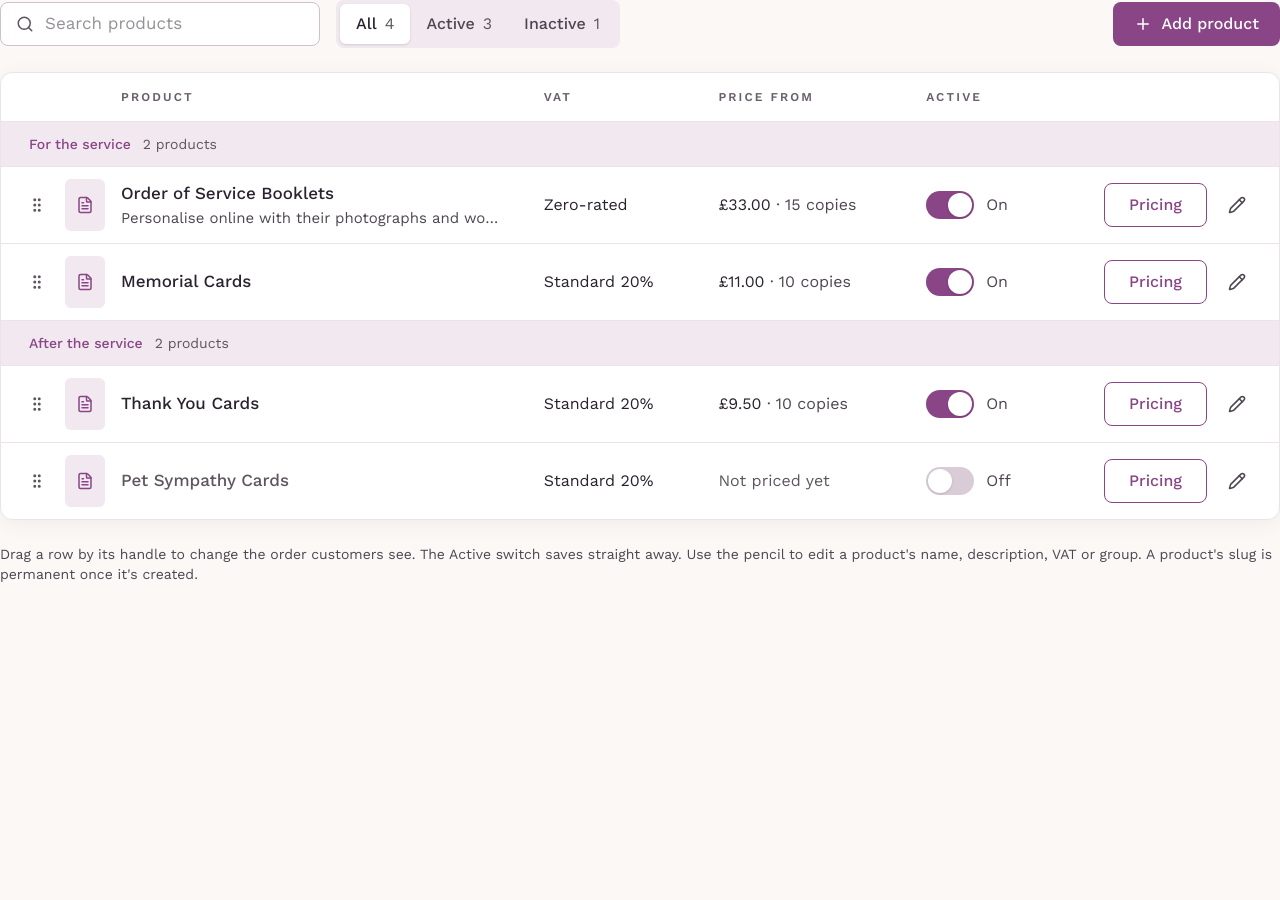
it: AdminProductsManager › edits a product with its slug locked, saving only once something changed
Click the button named "Edit Order of Service Booklets".
click(1237, 205)  # box [1215,183,1259,227]
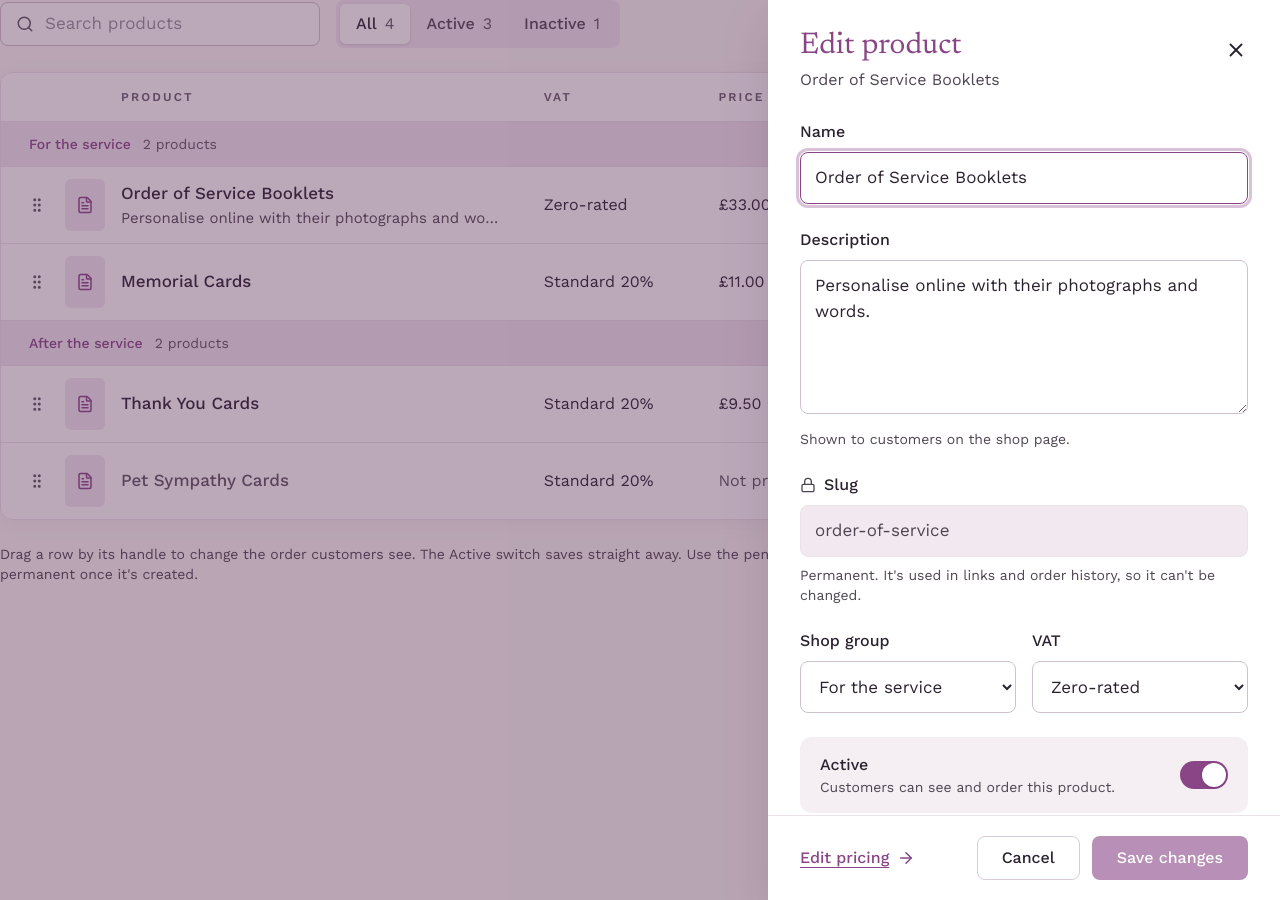
Now the text "Customers can see and order this product." is shown, box [820,776,1115,796]
Now the button "Save changes" is disabled, box [1092,836,1248,880]
Select "Standard 20%" in the dropdown labelled "VAT" at (1140, 686), box [1032,660,1248,712]
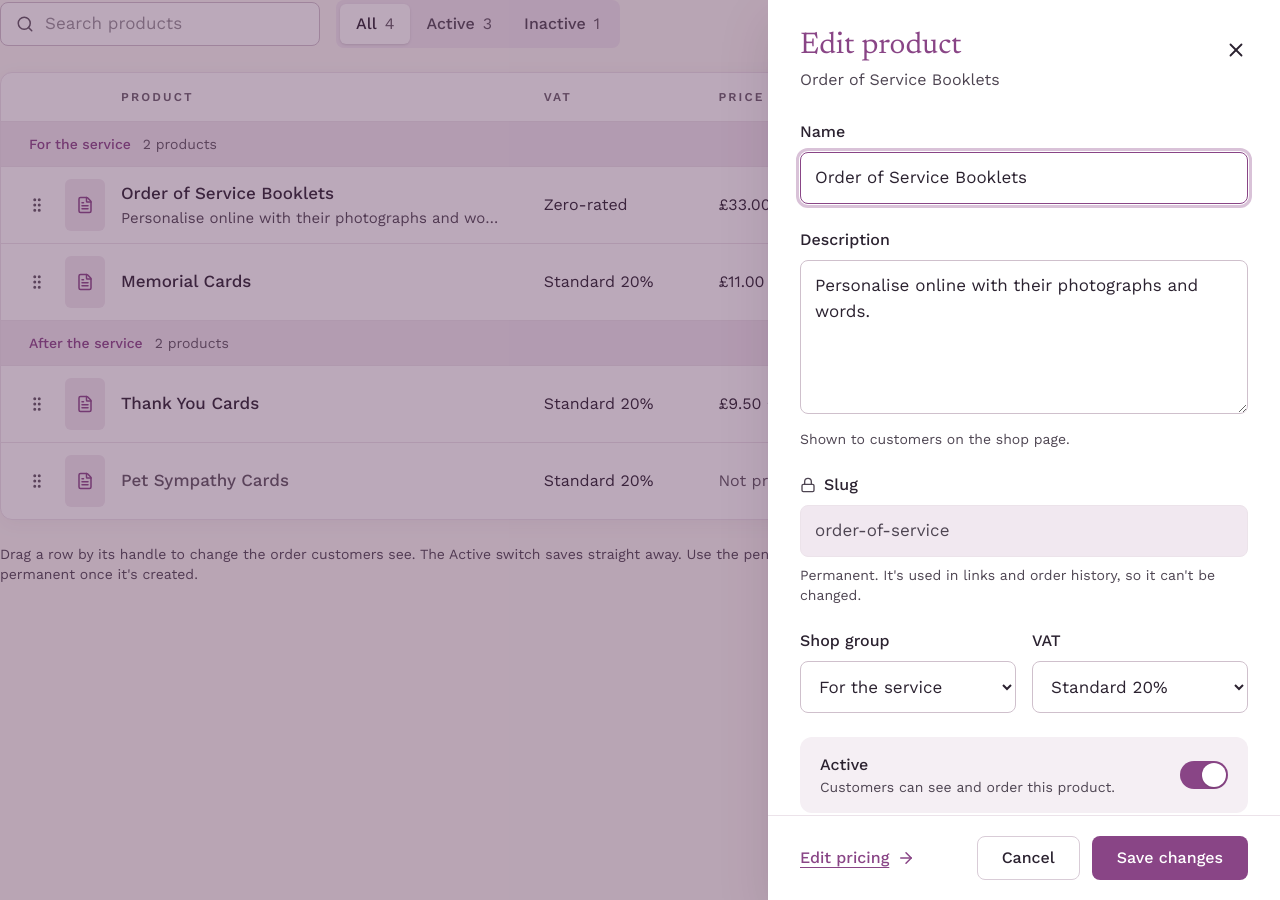
Click the button "Save changes".
click(1170, 858)  # box [1092,836,1248,880]
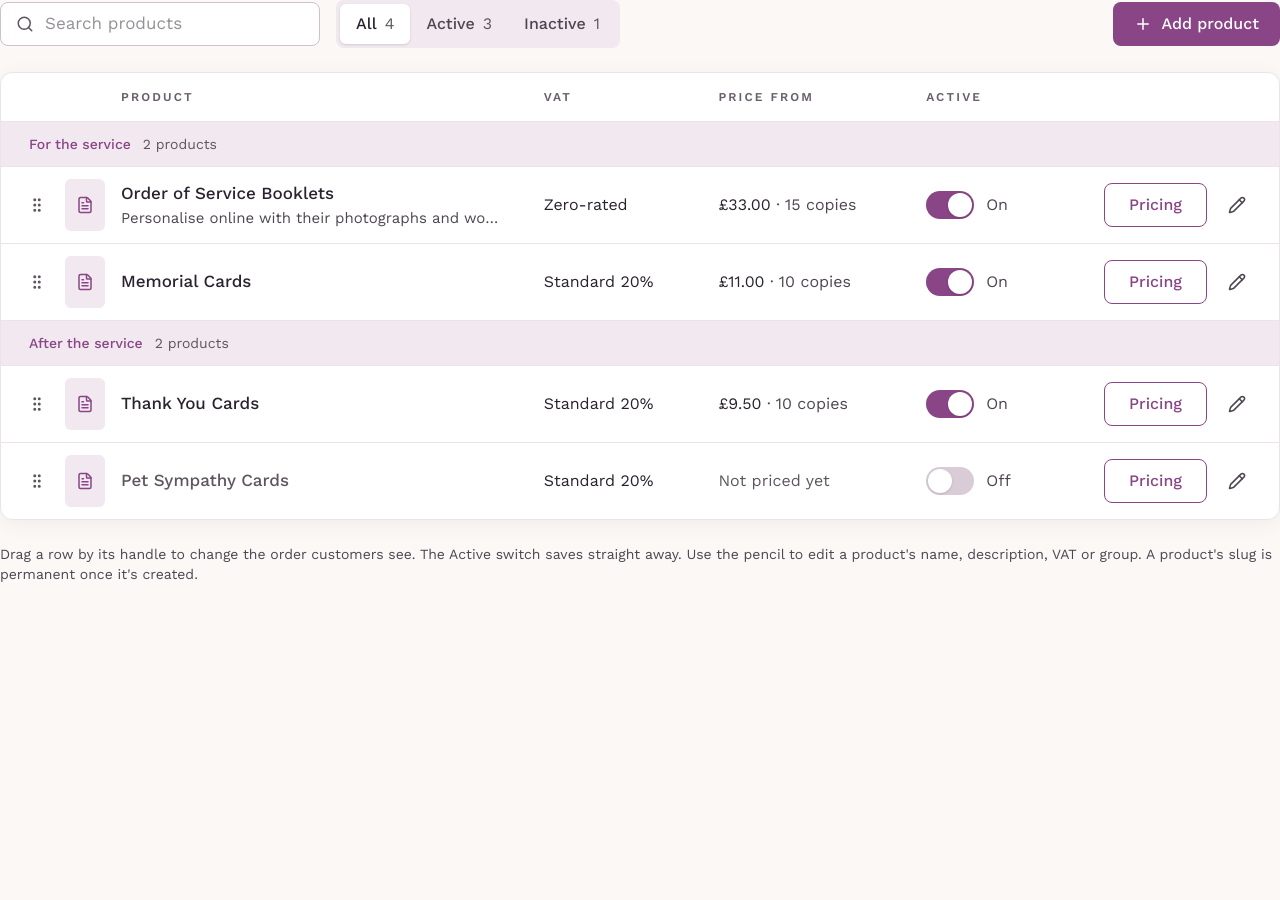
Now the dialog is gone
